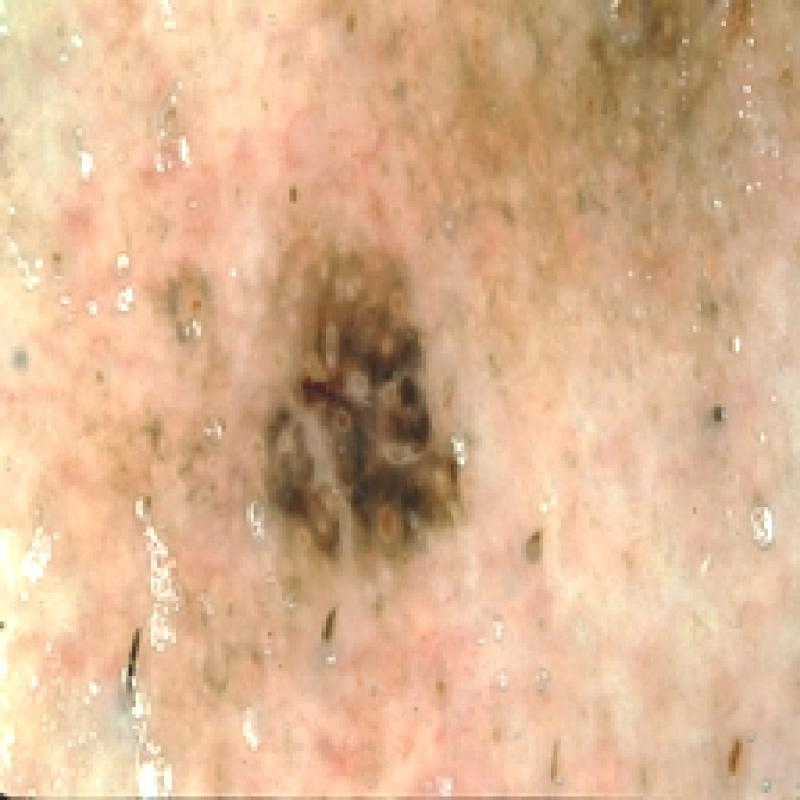malignant: (111, 167, 503, 604)
